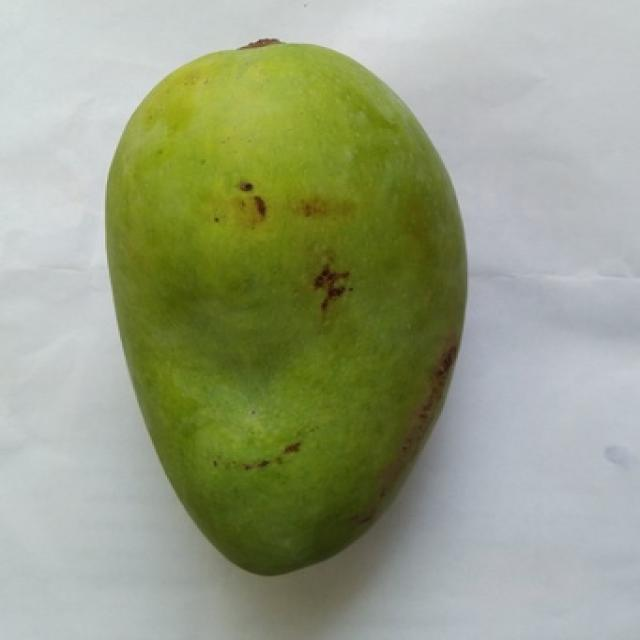Mango: (105, 41, 465, 573)
